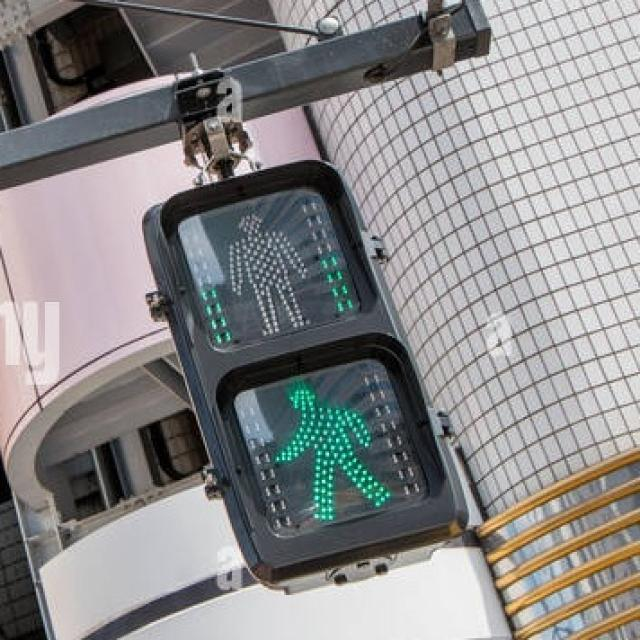green_light: (253, 378, 402, 520)
